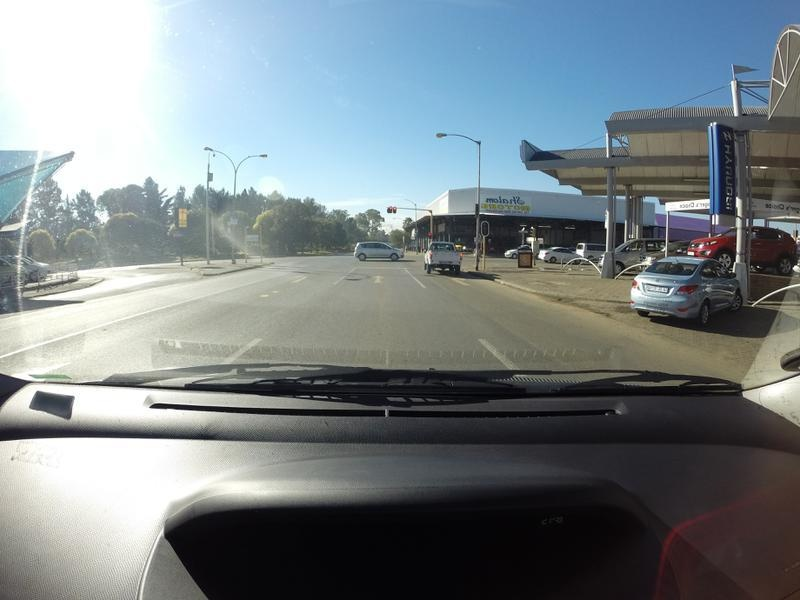pothole: (338, 276, 362, 284)
